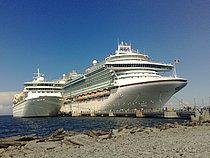Ship: (56, 37, 190, 117), (11, 66, 68, 119)
